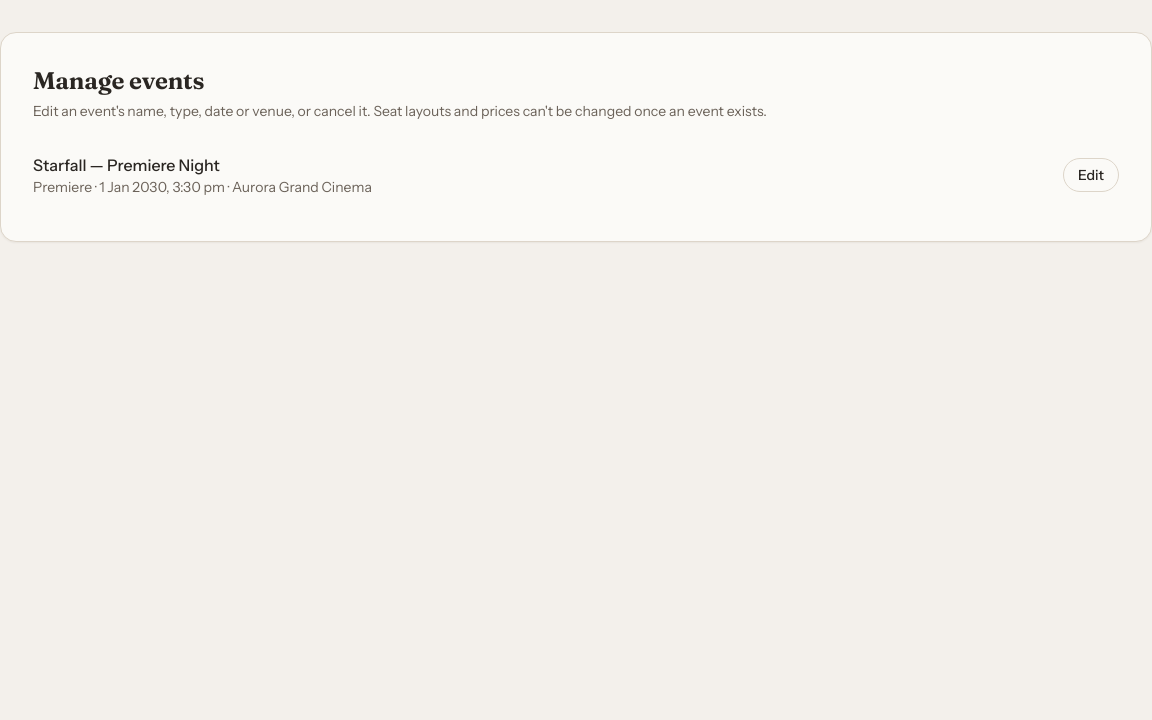
Test: ManageEvents › explains a conflicting edit and offers to reload
Click the button "Edit" at (1091, 175), box [1063,158,1119,192]
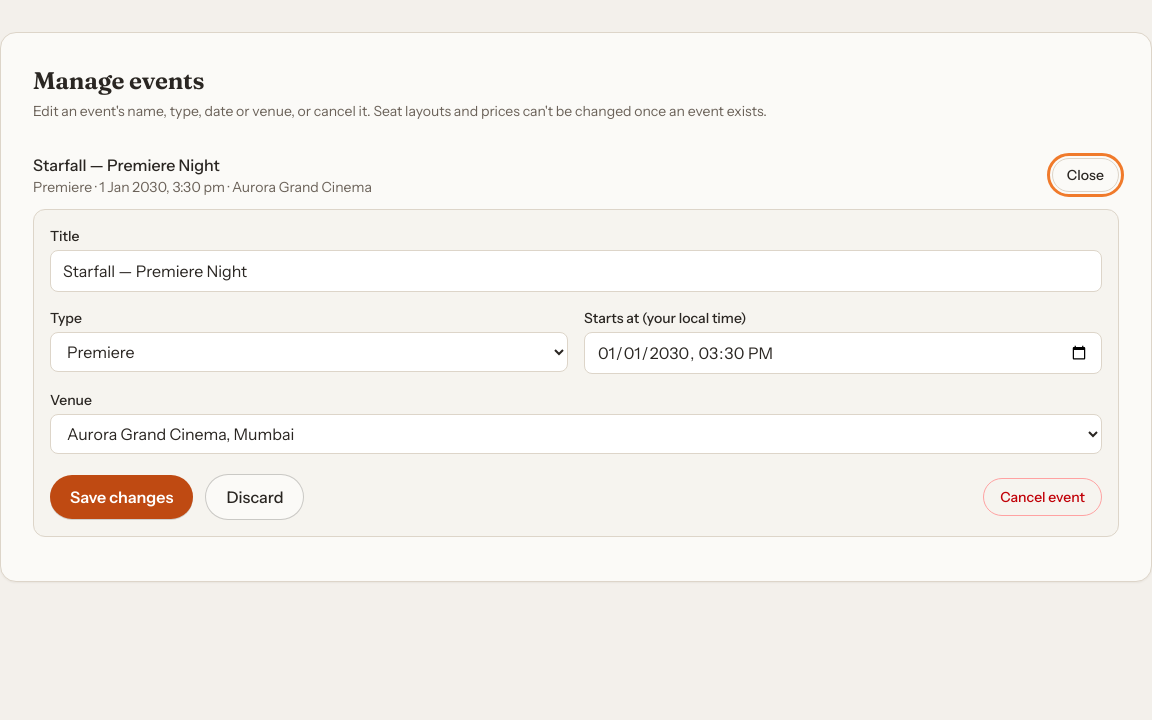
Click the button "Save changes" at (122, 497), box [50,475,193,519]
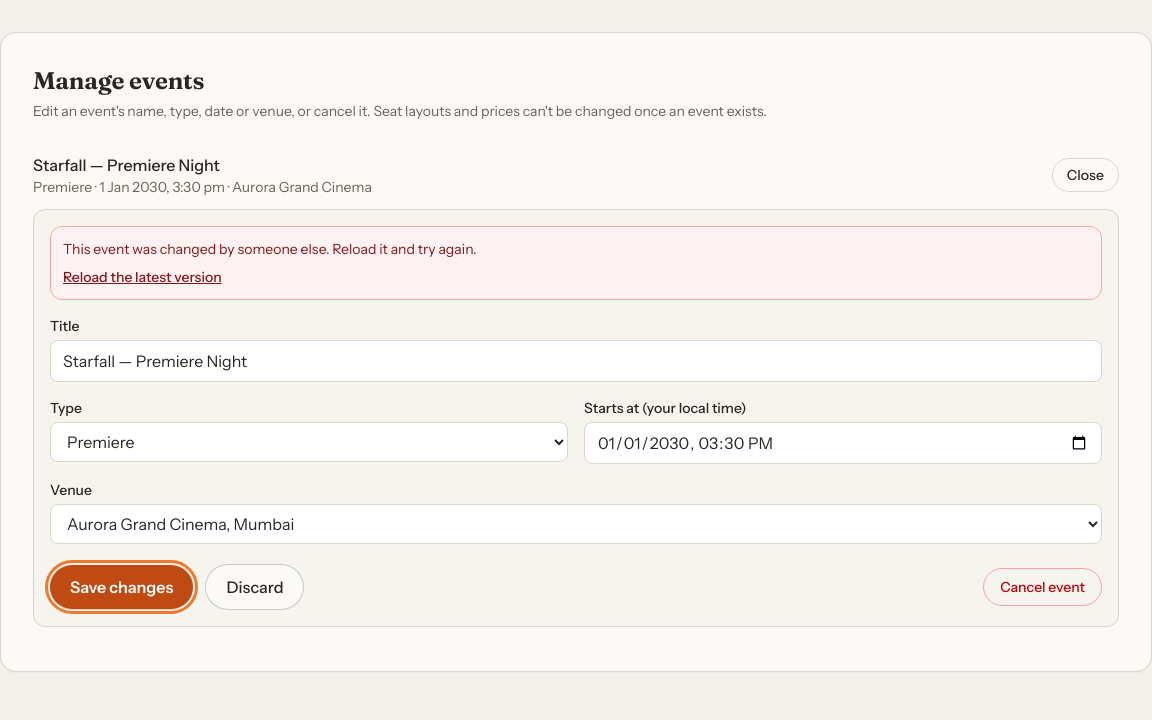
Check: the text "This event was changed by someone else. Reload it and try again." is shown, box [63,240,477,258]
Check: the button "Reload the latest version" is shown, box [63,267,222,287]
